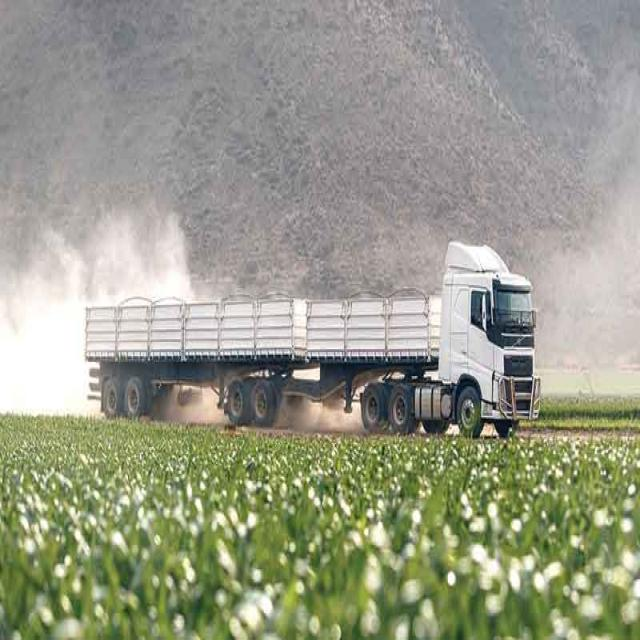Heavy Duty Truck: (83, 236, 543, 437)
